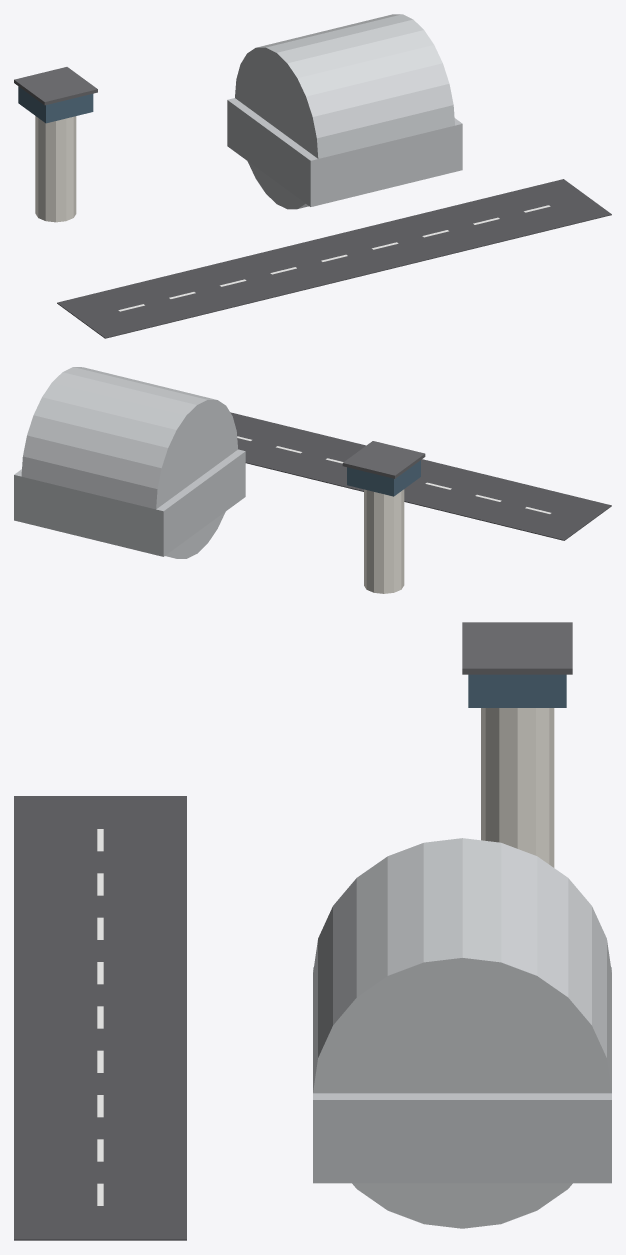
Rendered from airbase.glb.
The picture shows the model from 3 angles, top to bottom: view 1: azimuth 30°, elevation 25°; view 2: azimuth 150°, elevation 25°; view 3: azimuth 270°, elevation 25°; orthographic projection. The views are drawn at different scales.
Parts seen in each view (by area): view 1: Cube, Cylinder, Cube.010, Cylinder.001, Cube.012, Cube.011, Cube.001; view 2: Cylinder, Cube, Cube.010, Cylinder.001, Cube.012, Cube.011, Cube.001; view 3: Cube, Cylinder, Cube.010, Cylinder.001, Cube.012, Cube.011, Cube.001.
Boxes of the visible parts, x1,y1,x2,y2 form: Cube: (57, 179, 611, 338); Cylinder: (235, 14, 454, 209); Cube.010: (227, 98, 462, 206); Cylinder.001: (35, 116, 76, 222); Cube.012: (14, 67, 97, 105); Cube.011: (18, 86, 93, 123); Cube.001: (118, 205, 550, 311); Cylinder: (21, 367, 237, 558); Cube: (230, 412, 611, 540); Cube.010: (14, 449, 245, 556); Cylinder.001: (364, 489, 404, 593); Cube.012: (342, 441, 425, 478); Cube.011: (347, 460, 420, 496); Cube.001: (237, 436, 551, 514); Cube: (14, 796, 186, 1240); Cylinder: (313, 838, 611, 1228); Cube.010: (313, 967, 611, 1183); Cylinder.001: (481, 708, 554, 867); Cube.012: (462, 622, 572, 674); Cube.011: (468, 674, 566, 707); Cube.001: (97, 829, 103, 1205).
Size of the model in its own units: 80 by 23.9 by 45.6.
